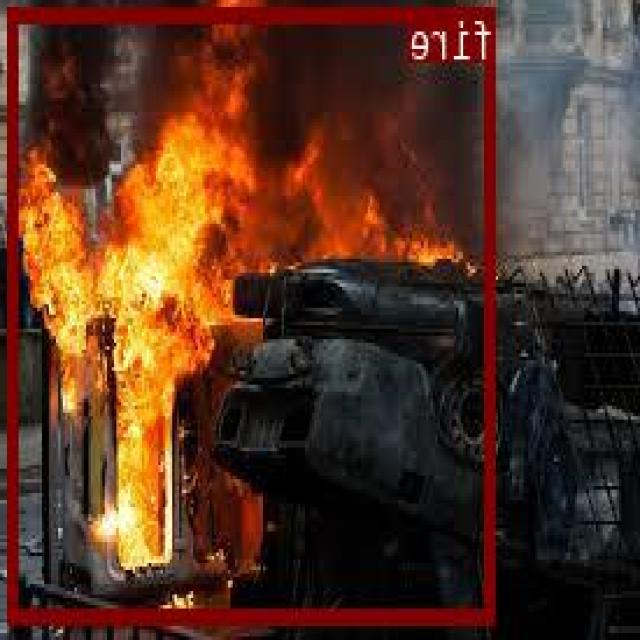fire: (10, 5, 498, 621)
